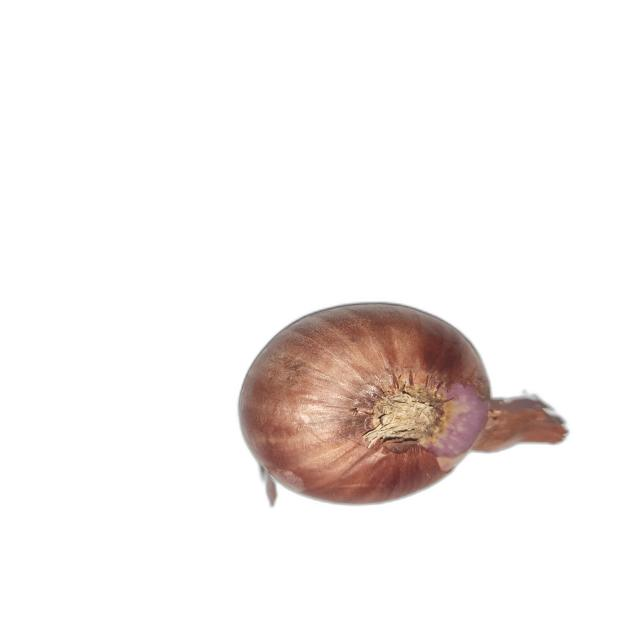onion: (238, 302, 569, 506)
